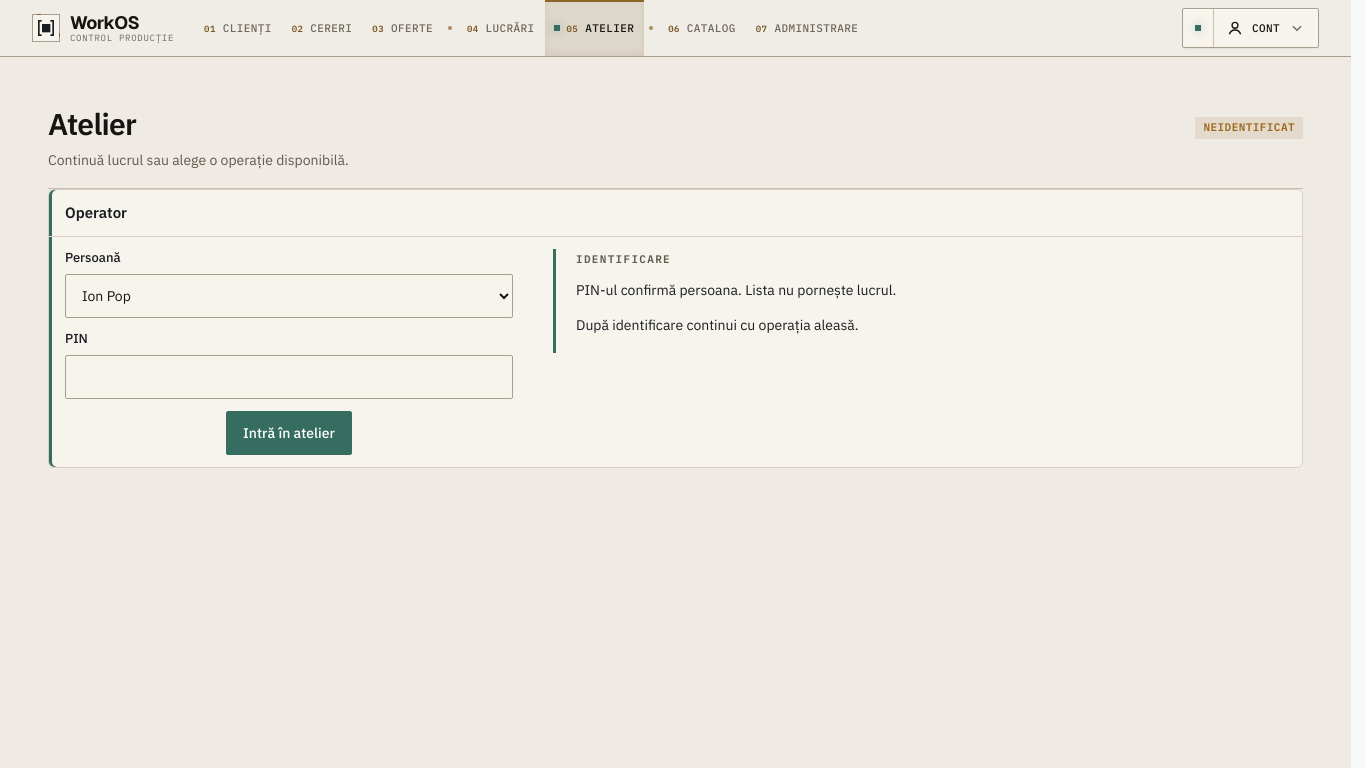
Test: App Cloud auth integration › does not treat a Cloud user as an Atelier operator
Click the button "Cont": (1266, 28) [1214, 9, 1318, 47]
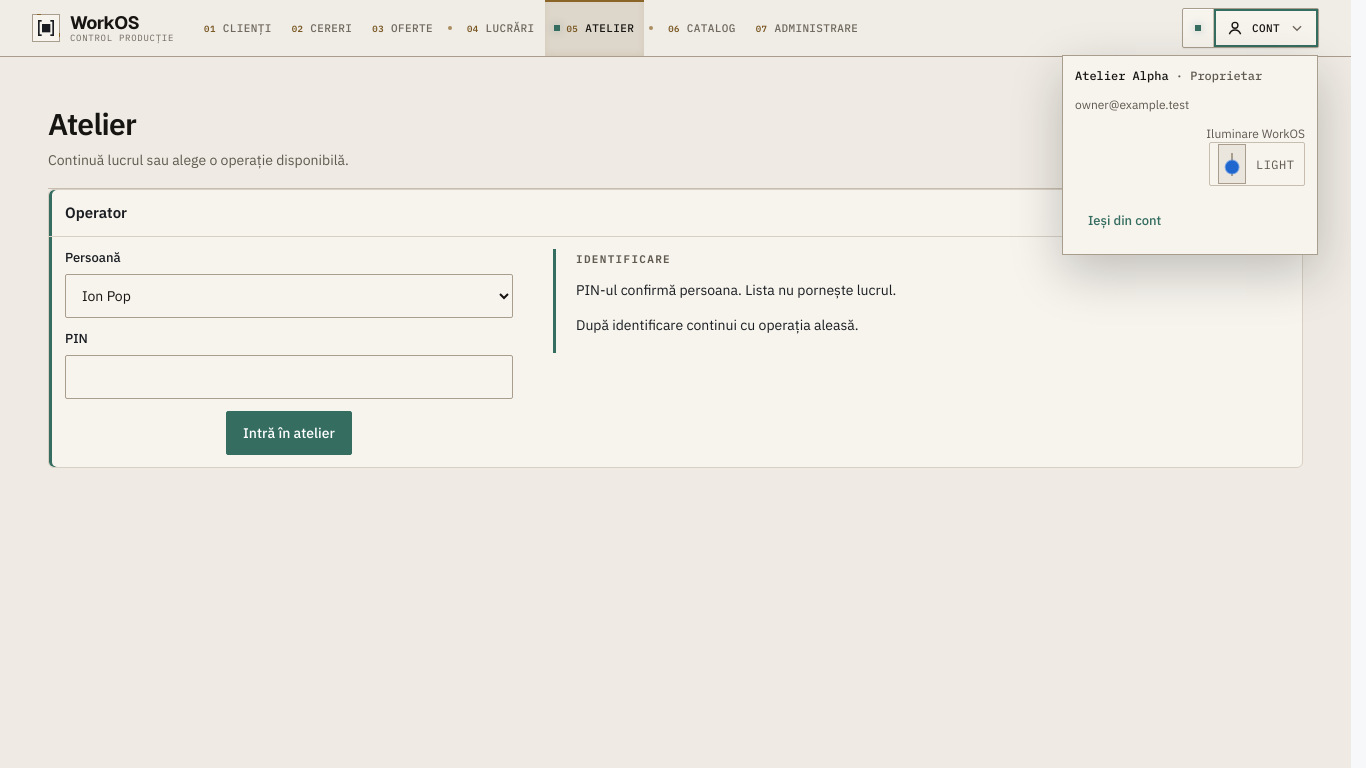
Check: the text "Neidentificat" is shown, box [1196, 117, 1303, 139]
Check: the text "owner@example.test" is shown, box [1075, 97, 1189, 112]
